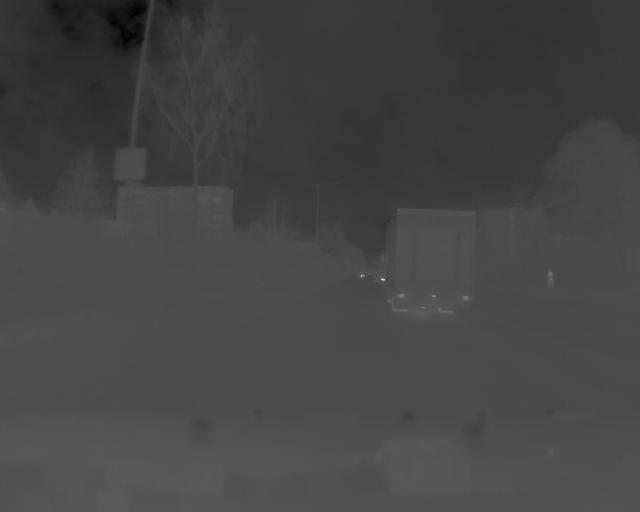car: (382, 205, 479, 318)
person: (545, 265, 555, 293)
